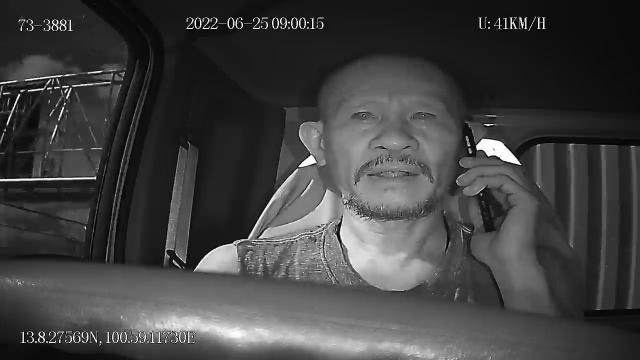PhoneUse: (462, 122, 496, 234)
SafeDriving: (402, 99, 444, 128), (346, 99, 384, 130)
